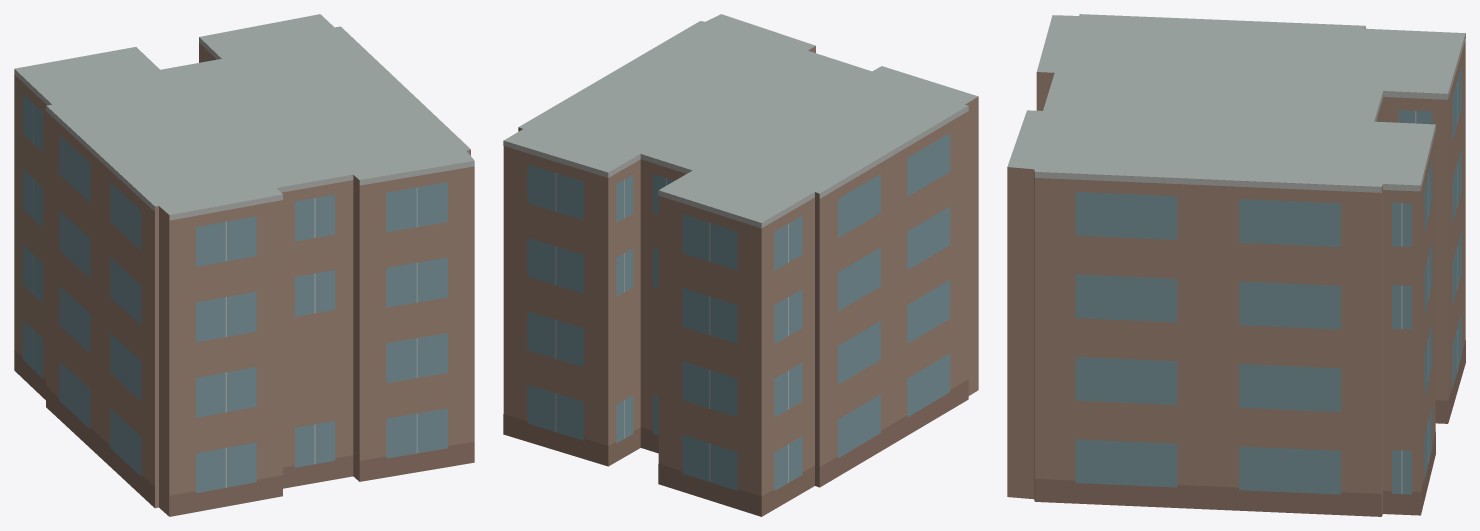
The model's file is survey-upis-33035741.glb.
3 views of the same model, side by side, from view 1: azimuth 30°, elevation 25°; view 2: azimuth 150°, elevation 25°; view 3: azimuth 270°, elevation 25° (orthographic). The views are drawn at different scales.
Parts seen in each view (by area): view 1: survey-upis-33035741.tmp; view 2: survey-upis-33035741.tmp; view 3: survey-upis-33035741.tmp.
Boxes of the visible parts, x1=… form: survey-upis-33035741.tmp: x1=14, y1=14, x2=474, y2=516; survey-upis-33035741.tmp: x1=503, y1=14, x2=978, y2=516; survey-upis-33035741.tmp: x1=1007, y1=14, x2=1465, y2=516.
Bounding box in the file's own units: 15.12 × 13.45 × 16.95.
